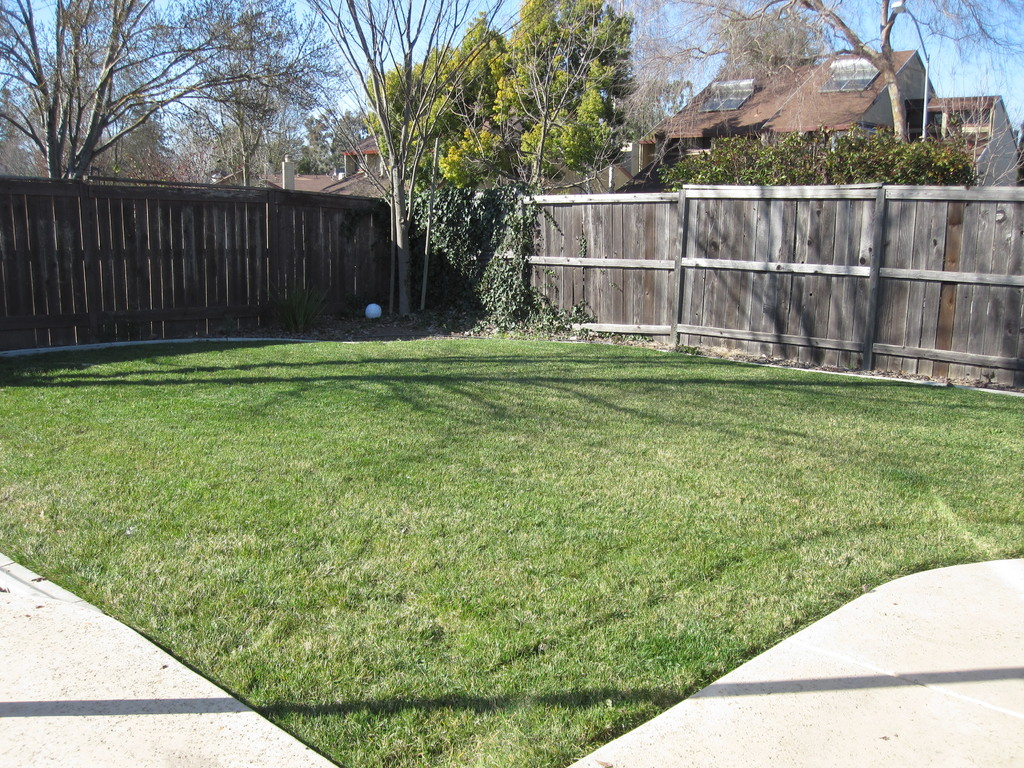Tree: (0, 0, 1022, 318)
